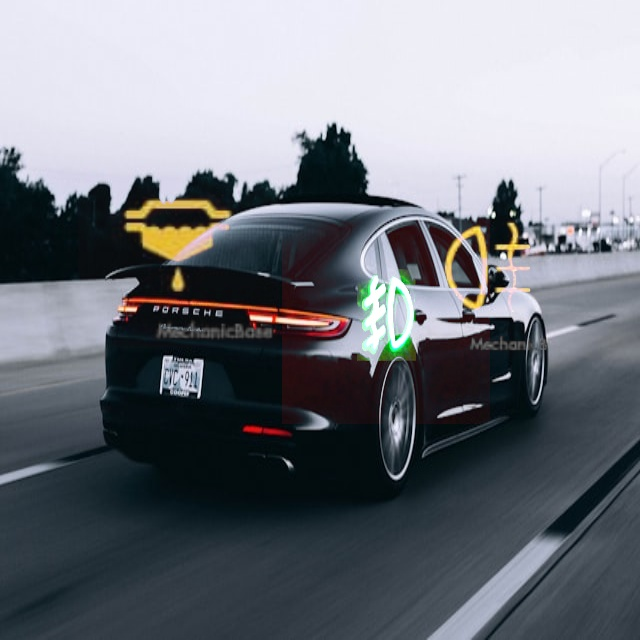symbol: (282, 216, 490, 424), (78, 146, 280, 348), (400, 180, 579, 359)
